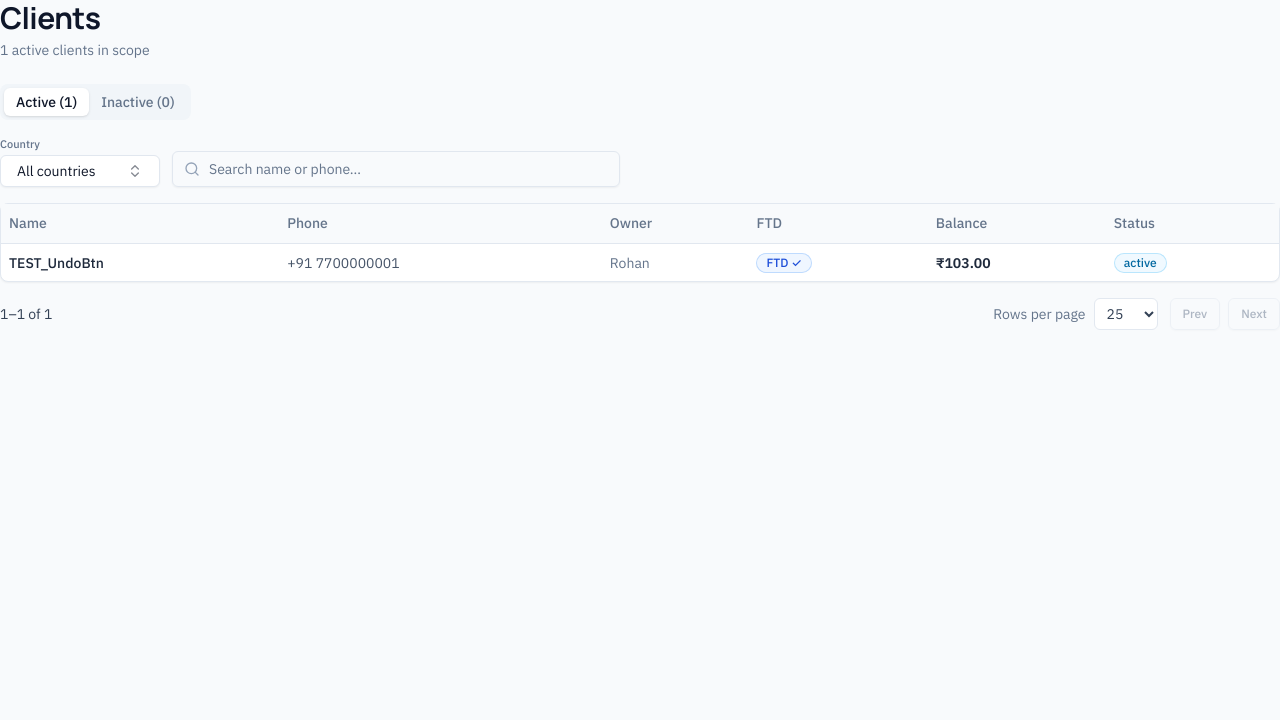
Test: Clients undo conversion › hides Undo conversion without clients:edit
Click the row with test id "client-row-c-undo-1".
click(640, 262)  # box [1,244,1279,281]
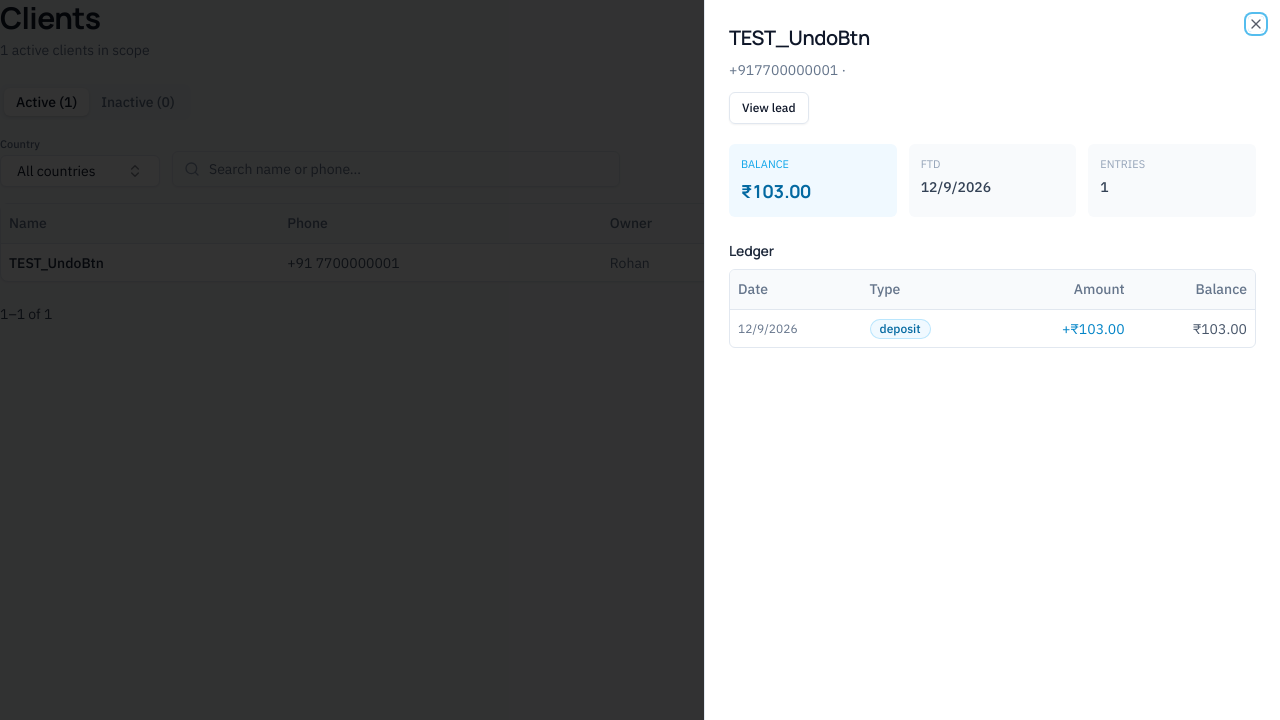
Expected: the dialog with test id "client-detail" is shown, [704,0,1279,719]
